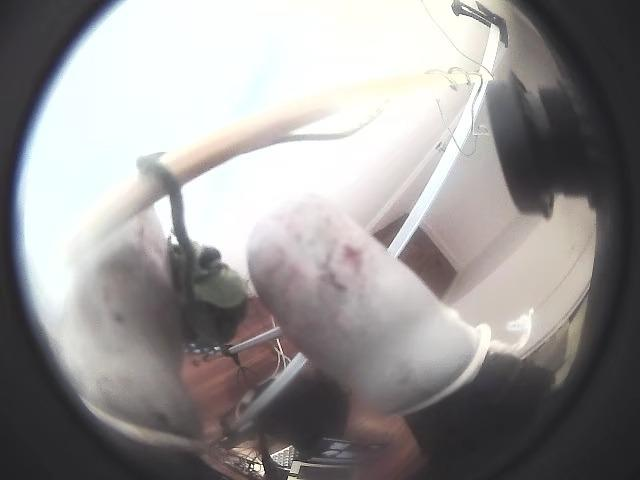berry: (169, 237, 248, 353)
gripper: (249, 197, 489, 411), (66, 210, 199, 449)
lense: (0, 0, 213, 479), (453, 0, 639, 479)
